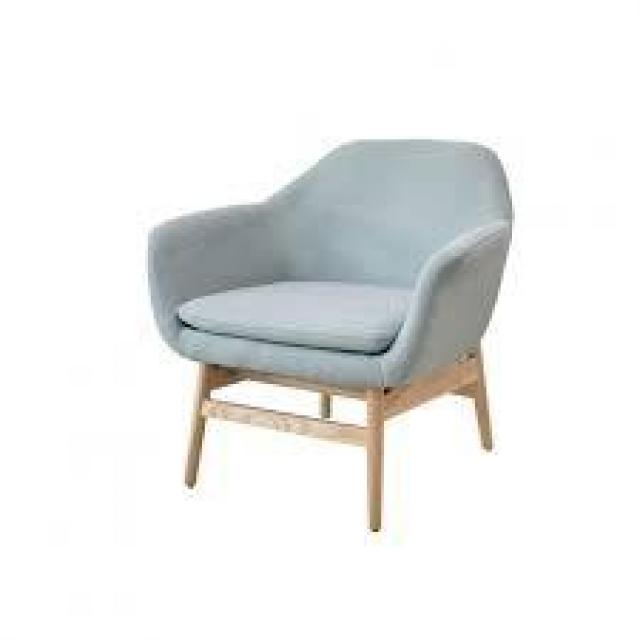chair: (128, 86, 546, 564)
